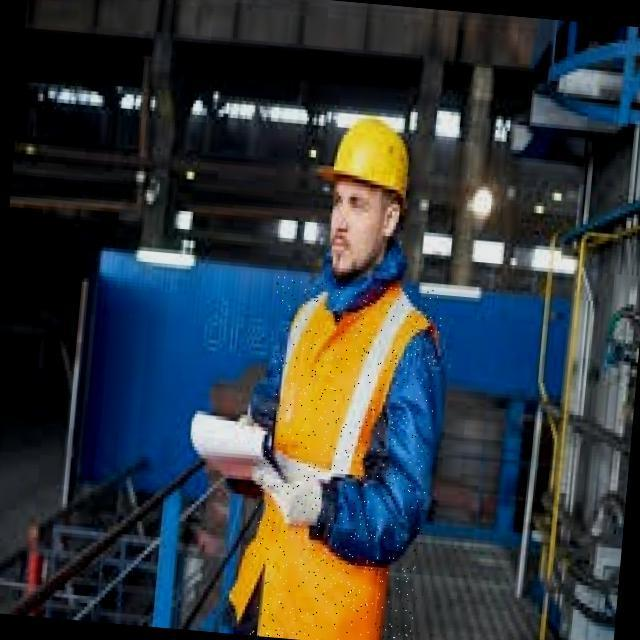helmet: (313, 109, 421, 211)
vest: (244, 276, 442, 640)
